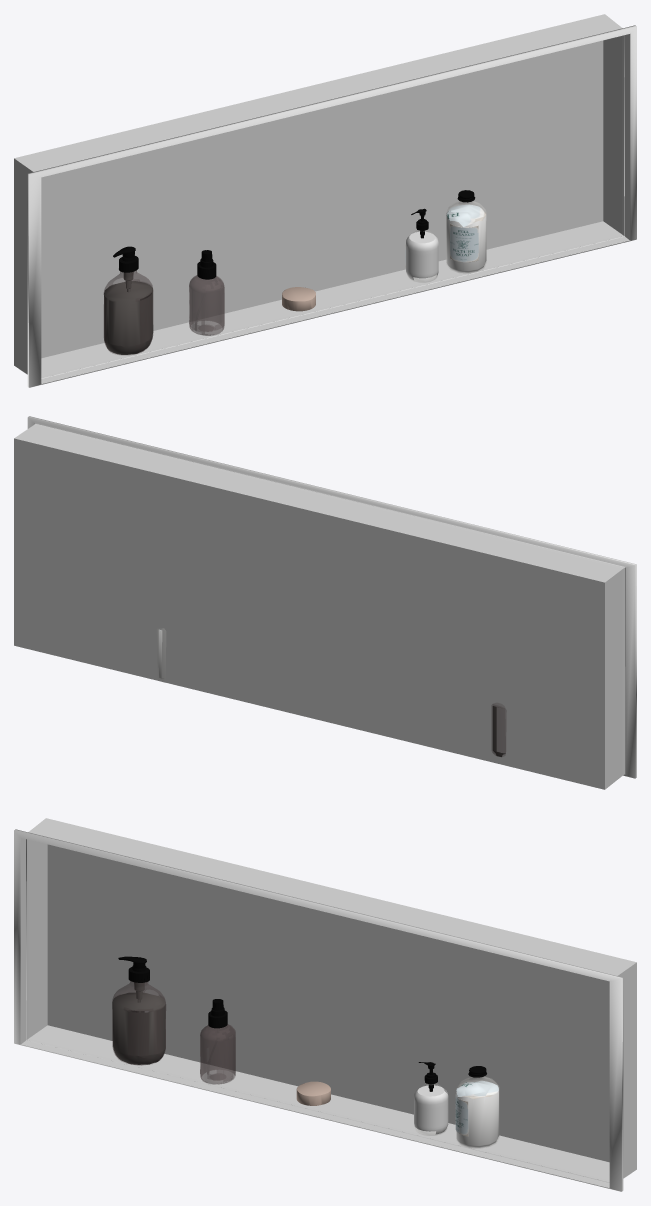
The model's file is NICHEPANEL_compressed.glb.
The picture shows the model from 3 angles, top to bottom: view 1: azimuth 30°, elevation 25°; view 2: azimuth 150°, elevation 25°; view 3: azimuth 330°, elevation 25°; orthographic projection.
Parts seen in each view (by area): view 1: Niche 910x305x68, Niche Bottles, Bath_soak_Cap001.003, Bottle_3.004, Soap.001; view 2: Niche 910x305x68, Niche Bottles; view 3: Niche 910x305x68, Niche Bottles, Bath_soak_Cap001.003, Bottle_3.004, Soap.001.
Boxes of the visible parts, x1,y1,x2,y2 form: Niche 910x305x68: [14, 14, 636, 387]; Niche Bottles: [103, 190, 475, 355]; Bath_soak_Cap001.003: [405, 201, 486, 281]; Bottle_3.004: [104, 272, 153, 354]; Soap.001: [282, 287, 315, 311]; Niche 910x305x68: [14, 416, 636, 789]; Niche Bottles: [491, 703, 506, 756]; Niche 910x305x68: [14, 818, 636, 1191]; Niche Bottles: [112, 956, 486, 1091]; Bath_soak_Cap001.003: [414, 1076, 499, 1148]; Bottle_3.004: [112, 982, 165, 1064]; Soap.001: [296, 1081, 330, 1105].
Size of the model in its own units: 0.91 by 0.305 by 0.0698.
8 materials, 1 textured.
